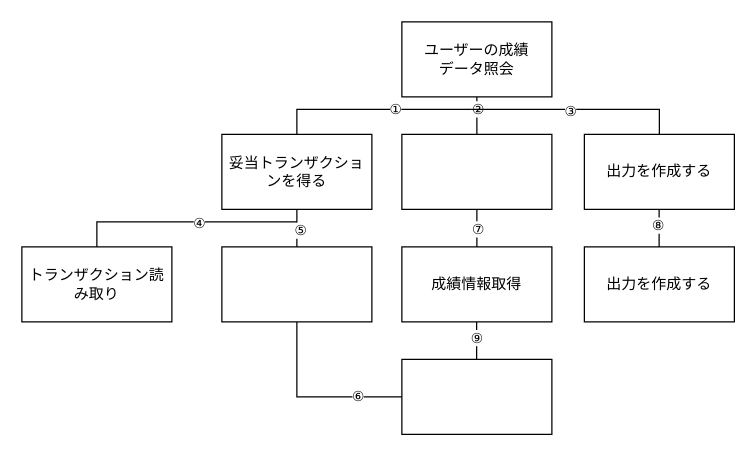
Image size: 756x456. Some labels were removed from this diagram. Here are the shapes that lost their labels. From the top down, the box of each, then its label:
(401, 133, 552, 209): 該当レコード取得
(221, 246, 372, 322): 成績IDの有効性をチェックする
(401, 358, 552, 434): 成績データファイル読み込み
